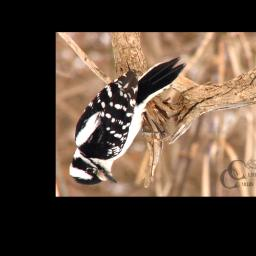Woodpecker: (68, 53, 188, 186)
